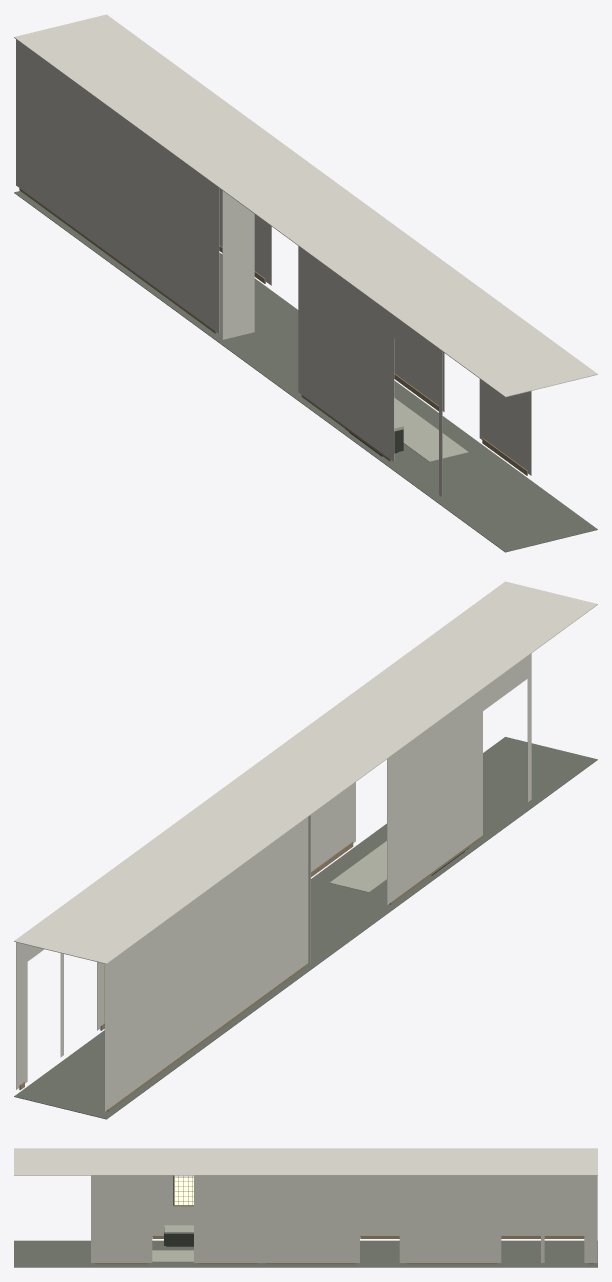
File: corridor-1.glb
3 renders of one model, top to bottom at view 1: azimuth 30°, elevation 25°; view 2: azimuth 150°, elevation 25°; view 3: azimuth 270°, elevation 25°, orthographic. The views are drawn at different scales.
Parts seen in each view (by area): view 1: DESIGN | Entrance coordinated ceiling, DESIGN | Entrance paired wall finish, DESIGN | Entrance floor finish, DESIGN | Entrance paired wall finish.003, DESIGN | Arch approach finish, DESIGN | Entrance paired wall finish.013, DESIGN | Entrance quiet runner, DESIGN | Entrance paired wall finish.012, DESIGN | Entrance paired wall finish.006, DESIGN | Entrance paired wall finish.002; view 2: DESIGN | Entrance coordinated ceiling, DESIGN | Entrance paired wall finish, DESIGN | Entrance floor finish, DESIGN | Entrance paired wall finish.003, DESIGN | Entrance paired wall finish.012, DESIGN | Entrance paired wall finish.005, DESIGN | Entrance quiet runner, DESIGN | Entrance paired wall finish.002, DESIGN | Entrance paired wall finish.001; view 3: DESIGN | Entrance coordinated ceiling, DESIGN | Entrance paired wall finish.006, DESIGN | Entrance paired wall finish.009, DESIGN | Entrance floor finish, DESIGN | Entrance paired wall finish.012, DESIGN | Entrance paired wall finish, DESIGN | Entrance paired wall finish.013, DESIGN | Entrance paired wall finish.003, DESIGN | Entrance paired wall finish.005, DESIGN | Entrance paired wall finish.007, DESIGN | Entrance paired wall finish.010, DESIGN | Entrance paired wall finish.004 (+8 smaller).
Part boxes in pixels (<box>): DESIGN | Entrance coordinated ceiling: <box>14,14,597,397</box>; DESIGN | Entrance paired wall finish: <box>16,39,219,333</box>; DESIGN | Entrance floor finish: <box>14,191,597,552</box>; DESIGN | Entrance paired wall finish.003: <box>298,246,394,461</box>; DESIGN | Arch approach finish: <box>222,190,254,339</box>; DESIGN | Entrance paired wall finish.013: <box>479,379,531,475</box>; DESIGN | Entrance quiet runner: <box>394,398,468,461</box>; DESIGN | Entrance paired wall finish.012: <box>394,339,444,411</box>; DESIGN | Entrance paired wall finish.006: <box>219,188,268,283</box>; DESIGN | Entrance paired wall finish.002: <box>394,316,438,370</box>; DESIGN | Entrance coordinated ceiling: <box>14,581,597,964</box>; DESIGN | Entrance paired wall finish: <box>104,817,308,1111</box>; DESIGN | Entrance floor finish: <box>14,737,597,1119</box>; DESIGN | Entrance paired wall finish.003: <box>387,689,482,904</box>; DESIGN | Entrance paired wall finish.012: <box>311,782,355,871</box>; DESIGN | Entrance paired wall finish.005: <box>16,942,27,1089</box>; DESIGN | Entrance quiet runner: <box>329,841,386,892</box>; DESIGN | Entrance paired wall finish.002: <box>483,656,527,710</box>; DESIGN | Entrance paired wall finish.001: <box>527,653,531,801</box>; DESIGN | Entrance coordinated ceiling: <box>14,1148,597,1175</box>; DESIGN | Entrance paired wall finish.006: <box>402,1175,501,1262</box>; DESIGN | Entrance paired wall finish.009: <box>262,1175,359,1262</box>; DESIGN | Entrance floor finish: <box>14,1240,597,1267</box>; DESIGN | Entrance paired wall finish.012: <box>194,1175,262,1262</box>; DESIGN | Entrance paired wall finish: <box>360,1176,584,1236</box>; DESIGN | Entrance paired wall finish.013: <box>91,1175,152,1262</box>; DESIGN | Entrance paired wall finish.003: <box>152,1175,193,1236</box>; DESIGN | Entrance paired wall finish.005: <box>584,1175,597,1262</box>; DESIGN | Entrance paired wall finish.007: <box>501,1175,540,1191</box>; DESIGN | Entrance paired wall finish.010: <box>360,1175,399,1191</box>; DESIGN | Entrance paired wall finish.004: <box>545,1175,584,1191</box>.
Bounding box in the file's own units: 1.7 × 2.73 × 15.61.
